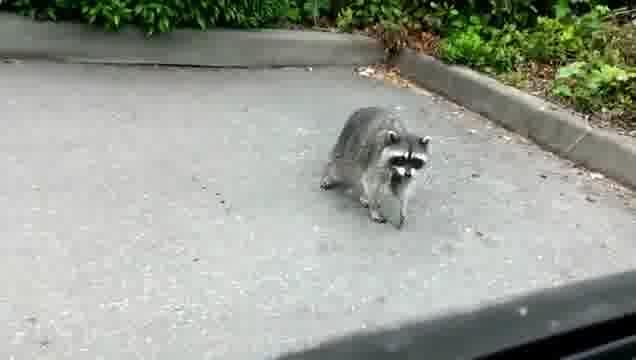raccoon: (322, 105, 432, 229)
